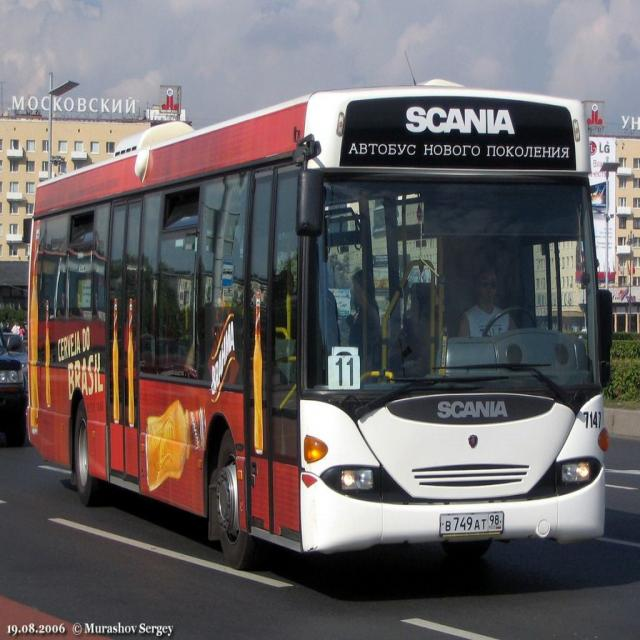number-of-bus: (331, 356, 360, 390)
